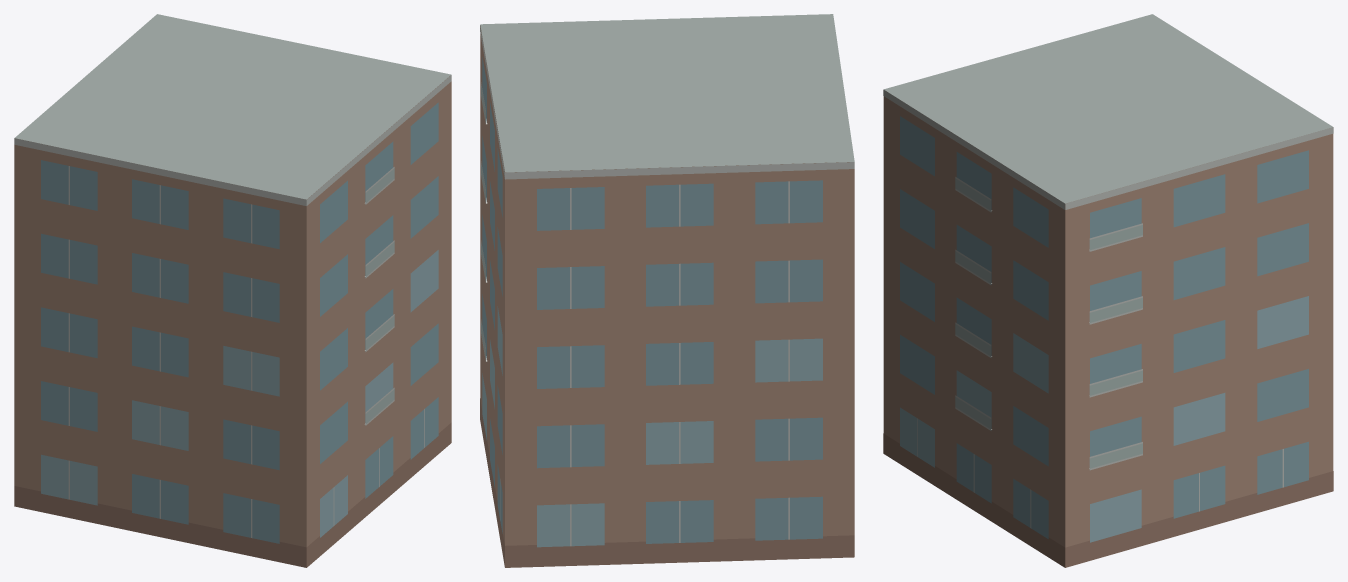
Rendered from survey-upis-32890812.glb.
The picture shows the model from 3 angles, left to right: view 1: azimuth 30°, elevation 25°; view 2: azimuth 150°, elevation 25°; view 3: azimuth 270°, elevation 25°; orthographic projection. The views are drawn at different scales.
Parts seen in each view (by area): view 1: survey-upis-32890812.tmp; view 2: survey-upis-32890812.tmp; view 3: survey-upis-32890812.tmp.
Part boxes in pixels (x1,y1,x2,y2): survey-upis-32890812.tmp: (14,14,451,567); survey-upis-32890812.tmp: (480,14,854,567); survey-upis-32890812.tmp: (883,14,1333,567).
Size of the model in its own units: 15.2 by 13.6 by 15.24.
